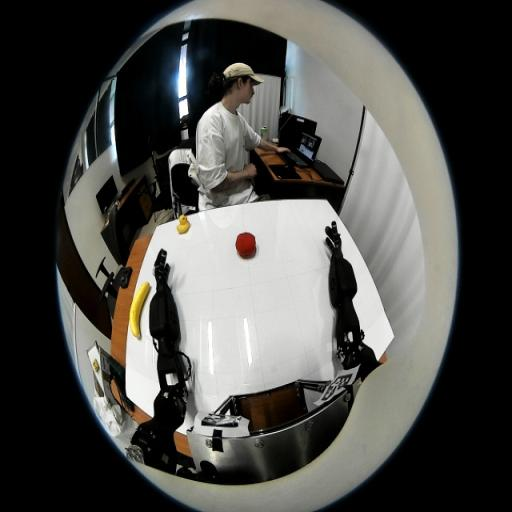Banana: (129, 282, 150, 338)
Duck: (176, 214, 190, 234)
LeftHand: (155, 268, 166, 280)
RightHand: (332, 242, 341, 254)
Tomato: (235, 232, 256, 258)
